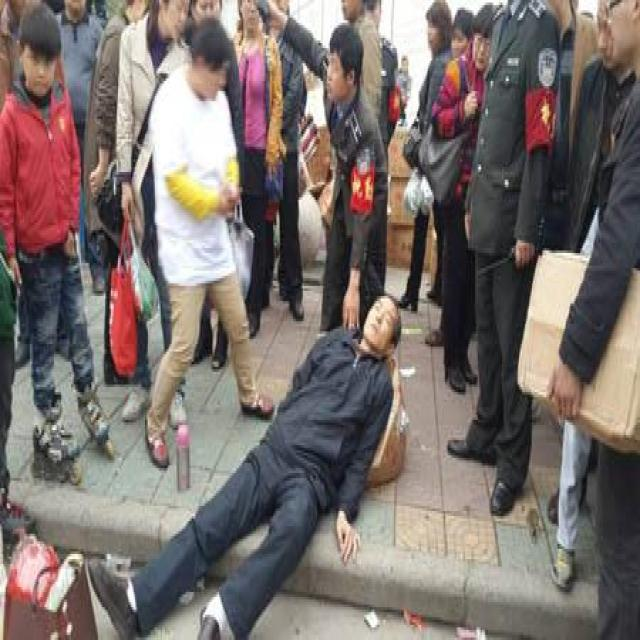10-: (2, 0, 638, 637)
down: (94, 278, 409, 630)
